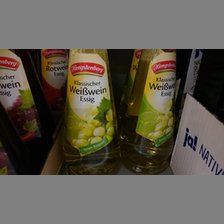vinegar: (63, 48, 121, 175), (126, 48, 177, 174), (1, 49, 50, 165), (39, 49, 67, 107)
